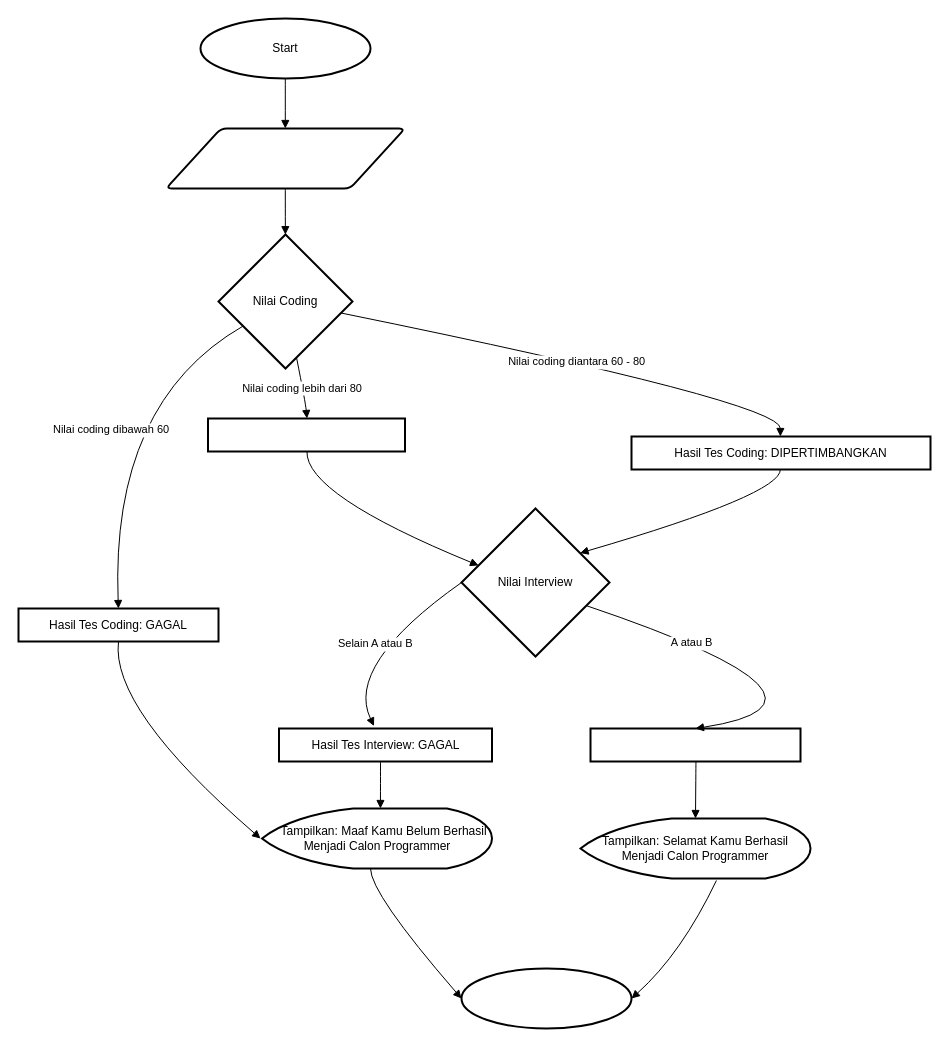
Some shapes in this 948 by 1046 pixel diagram are drawn without their labels. The shapes that lost their labels are listed below. From the top down, each one's centre as x and y in pixels, then its label:
At pixel 285 158: "Input Nilai Coding dan Interview".
At pixel 306 434: "Hasil Tes Coding: LOLOS".
At pixel 695 744: "Hasil Tes Interview: LOLOS".
At pixel 546 998: "End".
